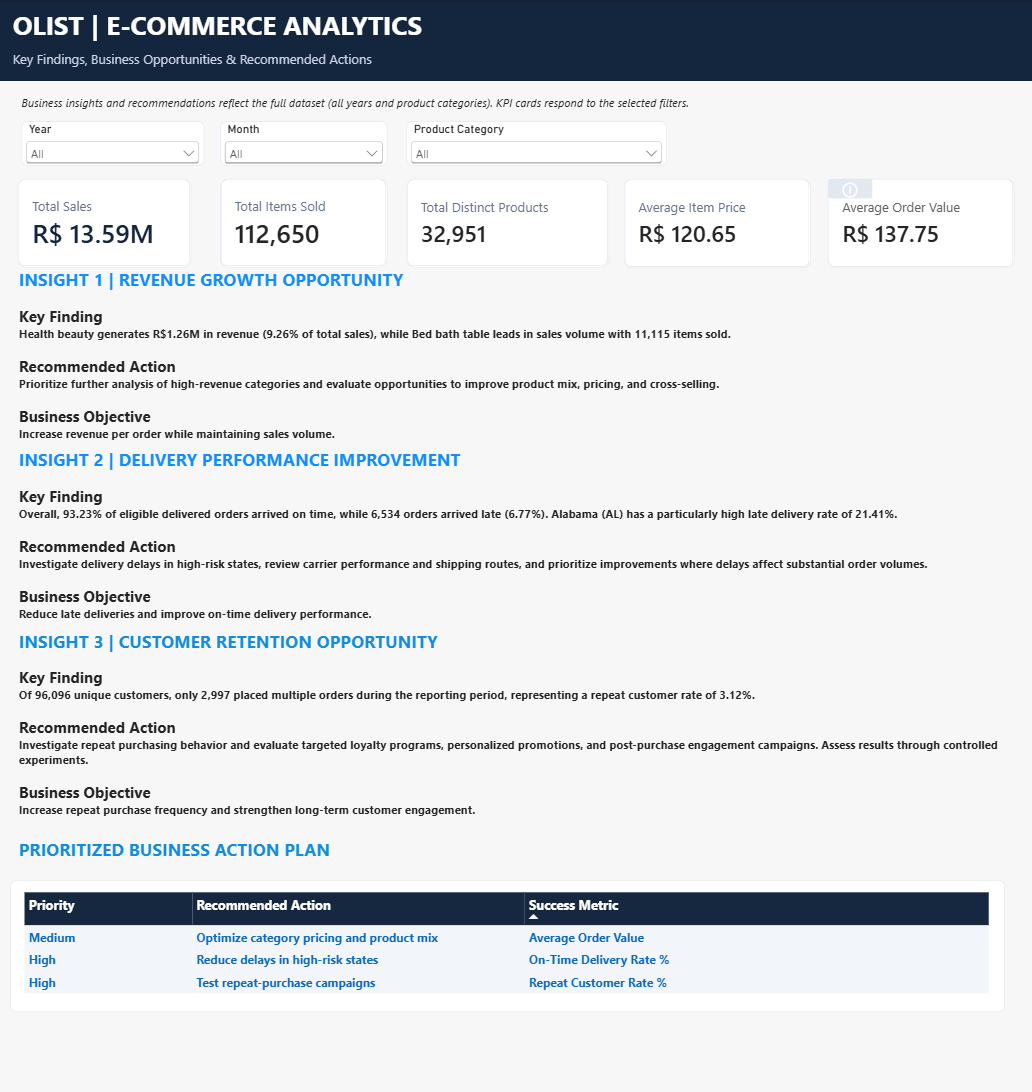

The dashboard page shown, as its layout file describes it:
{"tool":"powerbi","page":{"name":"Business Insights & Recommendations","canvas":[1280,1350],"ordinal":4},"visuals":[{"type":"shape","box":[0,0,1919.8,100],"z":0},{"type":"cardVisual","fields":{"Data":["Order_Items.Total Sales"]},"box":[23.1,220.7,214.5,109.6],"z":1000},{"type":"cardVisual","fields":{"Data":["Order_Items.Total Items Sold"]},"box":[273.1,220.7,206.8,109.6],"z":2000},{"type":"cardVisual","fields":{"Data":["Customers.Total Distinct Products"]},"box":[503.1,220.7,250,109.6],"z":3000},{"type":"cardVisual","fields":{"Data":["Customers.Average Item Price"]},"box":[771.6,220.7,230,110],"z":4000},{"type":"cardVisual","fields":{"Data":["Order_Items.Average Order Value"]},"box":[1022.5,220,230,110],"z":5000},{"type":"textbox","box":[17.3,9.9,524.7,51.9],"z":6000},{"type":"textbox","box":[17,61.7,506.2,32.4],"z":7000},{"type":"slicer","fields":{"Values":["DimDate.Year"]},"box":[27.8,149.7,225.3,55.6],"z":11000},{"type":"slicer","fields":{"Values":["DimDate.Month Name"]},"box":[273.8,150,206.2,55],"z":12000},{"type":"slicer","fields":{"Values":["Products.Category_Display"]},"box":[502.5,150,321.2,55],"z":13000},{"type":"actionButton","box":[1023.2,220.7,55.6,24.7],"z":15000},{"type":"textbox","box":[24.7,330.2,1228.4,222.2],"z":15001},{"type":"textbox","box":[24.7,552.5,1228.4,223.8],"z":15002},{"type":"textbox","box":[24.7,776.2,1228.4,242.3],"z":15003},{"type":"textbox","box":[24.7,1034,455.2,35.5],"z":15004},{"type":"tableEx","fields":{"Values":["Business_Action_Plan.Priority","Business_Action_Plan.Recommended Action","Business_Action_Plan.Success Metric"]},"box":[14,1086,1228,163],"z":15005},{"type":"textbox","box":[27.8,117.3,1057.1,21.6],"z":15006}]}

Visuals, with their boxes in screenshot pixels (x1, y1, x2, y2), scaled from the page's 1280x1350 canvas onto the 1032x1092 screenshot:
shape: bbox(0, 0, 1031, 81)
cardVisual - Order_Items.Total Sales: bbox(19, 179, 192, 267)
cardVisual - Order_Items.Total Items Sold: bbox(220, 179, 387, 267)
cardVisual - Customers.Total Distinct Products: bbox(406, 179, 607, 267)
cardVisual - Customers.Average Item Price: bbox(622, 179, 808, 267)
cardVisual - Order_Items.Average Order Value: bbox(824, 178, 1010, 267)
textbox: bbox(14, 8, 437, 50)
textbox: bbox(14, 50, 422, 76)
slicer - DimDate.Year: bbox(22, 121, 204, 166)
slicer - DimDate.Month Name: bbox(221, 121, 387, 166)
slicer - Products.Category_Display: bbox(405, 121, 664, 166)
actionButton: bbox(825, 179, 870, 199)
textbox: bbox(20, 267, 1010, 447)
textbox: bbox(20, 447, 1010, 628)
textbox: bbox(20, 628, 1010, 824)
textbox: bbox(20, 836, 387, 865)
tableEx - Business_Action_Plan.Priority x Business_Action_Plan.Recommended Action: bbox(11, 878, 1001, 1010)
textbox: bbox(22, 95, 875, 112)
